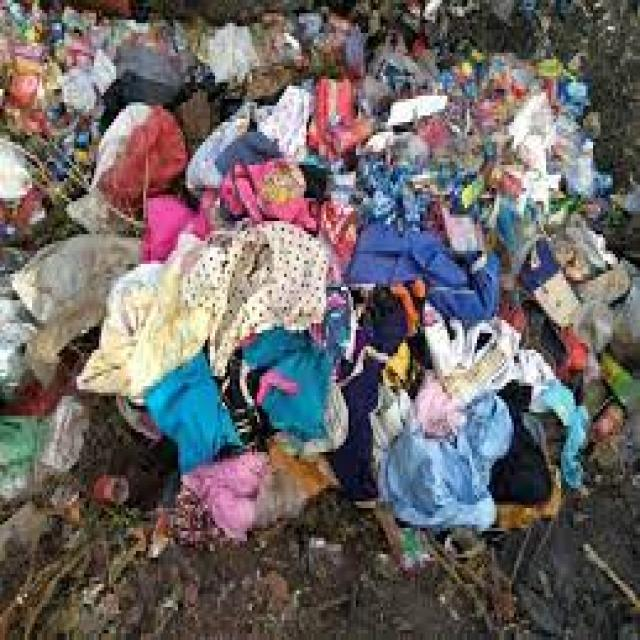Clothes -Biodegradable-: (0, 0, 640, 570)
